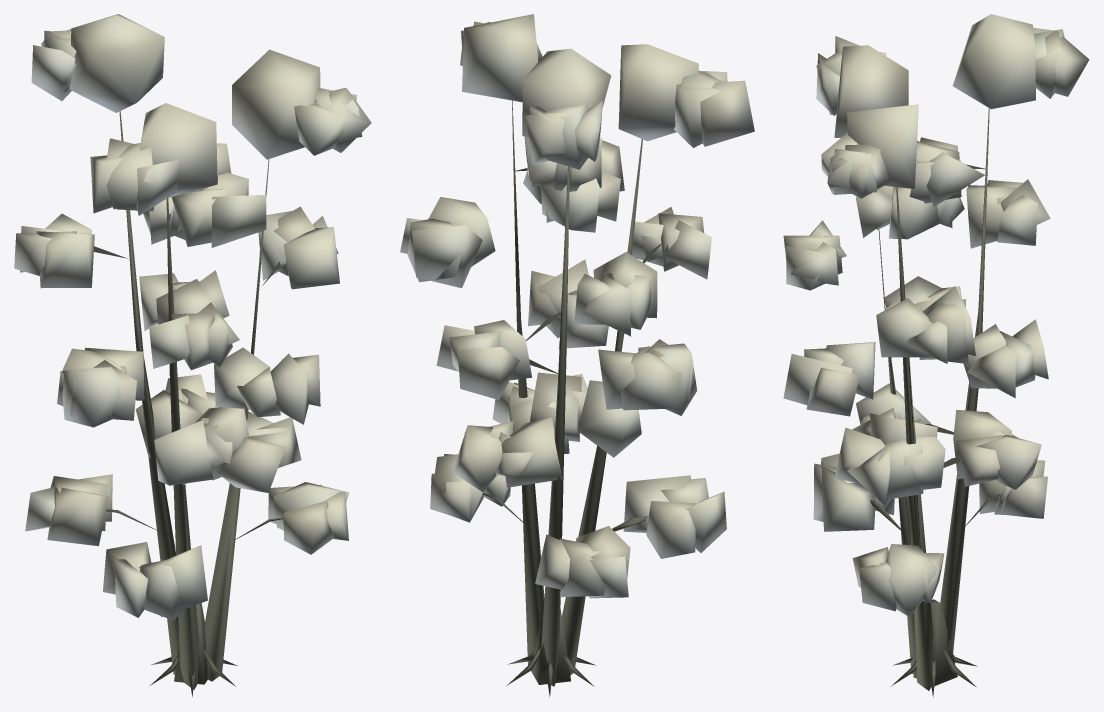
The picture shows the model from 3 angles, left to right: view 1: azimuth 30°, elevation 25°; view 2: azimuth 150°, elevation 25°; view 3: azimuth 270°, elevation 25°; orthographic projection. The views are drawn at different scales.
Parts seen in each view (by area): view 1: crown, trunk; view 2: crown, trunk; view 3: crown, trunk.
Boxes of the visible parts, box(x1,y1,x2,y2) form: crown: box(14, 14, 371, 620); trunk: box(94, 111, 283, 696); crown: box(400, 14, 754, 598); trunk: box(482, 100, 661, 696); crown: box(783, 14, 1089, 617); trunk: box(870, 108, 1000, 697).
Size of the model in its own units: 6.26 by 13.37 by 5.78.
